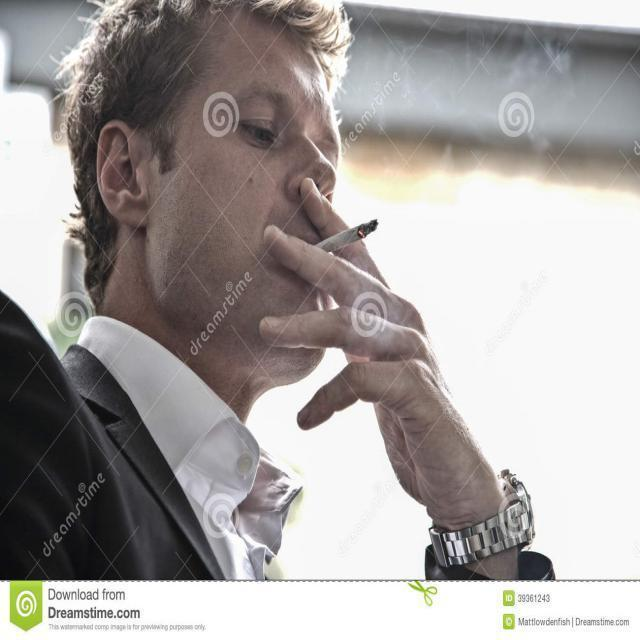smoking: (246, 211, 385, 282)
